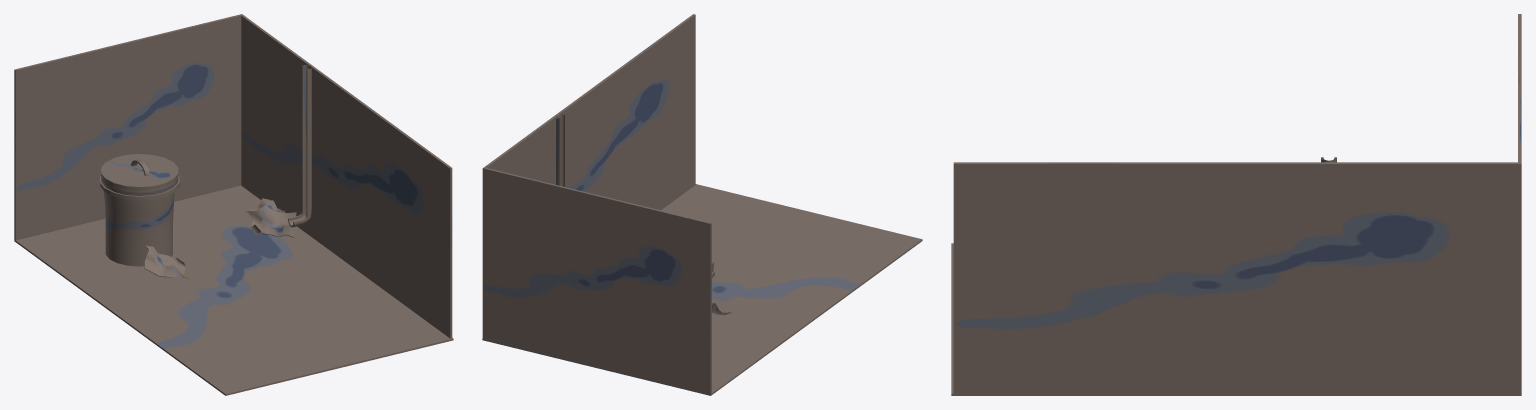
Rendered from area_1.obj.
3 views of the same model, side by side, from view 1: azimuth 30°, elevation 25°; view 2: azimuth 150°, elevation 25°; view 3: azimuth 270°, elevation 25° (orthographic). The views are drawn at different scales.
Visible parts, largest first — view 1: Box002, Box001, Cylinder002, Cylinder003, Box004, Box005; view 2: Box002, Box001, Cylinder003; view 3: Box002, Box001.
Part boxes in pixels (bbox=[...]): Box002: bbox=[14, 14, 452, 338]; Box001: bbox=[14, 185, 453, 395]; Cylinder002: bbox=[100, 154, 179, 266]; Cylinder003: bbox=[288, 65, 311, 227]; Box004: bbox=[247, 205, 296, 237]; Box005: bbox=[144, 245, 191, 278]; Box002: bbox=[482, 14, 711, 394]; Box001: bbox=[482, 184, 922, 395]; Cylinder003: bbox=[556, 114, 565, 186]; Box002: bbox=[953, 14, 1521, 393]; Box001: bbox=[951, 243, 1521, 395].
Bounding box in the file's own units: 0.2779 × 0.2007 × 0.4461.
